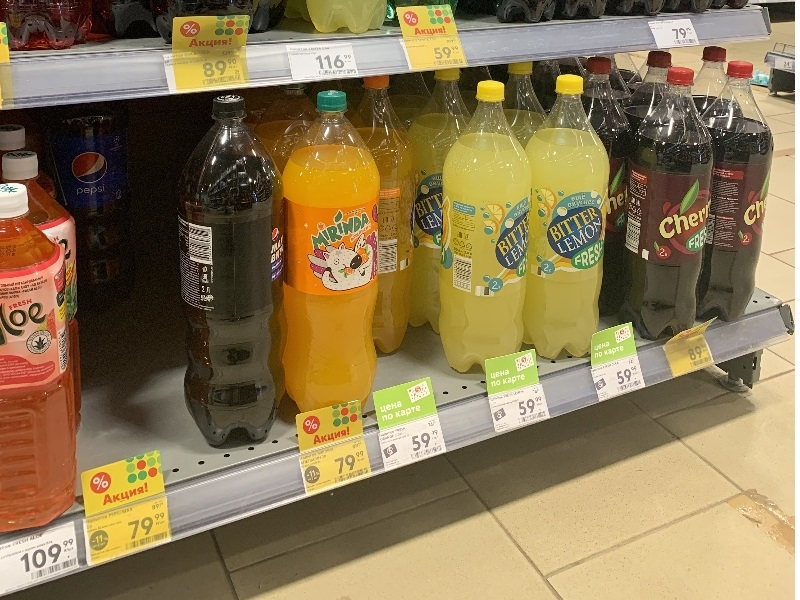lemonade: (178, 90, 294, 460), (275, 87, 378, 430), (440, 80, 535, 384), (520, 73, 612, 368), (620, 66, 711, 346), (693, 57, 772, 324)
